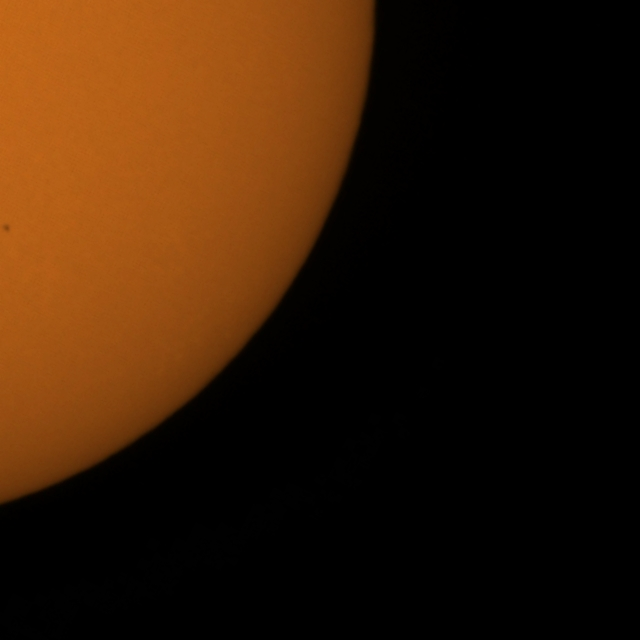sunspot: (1, 222, 12, 235)
